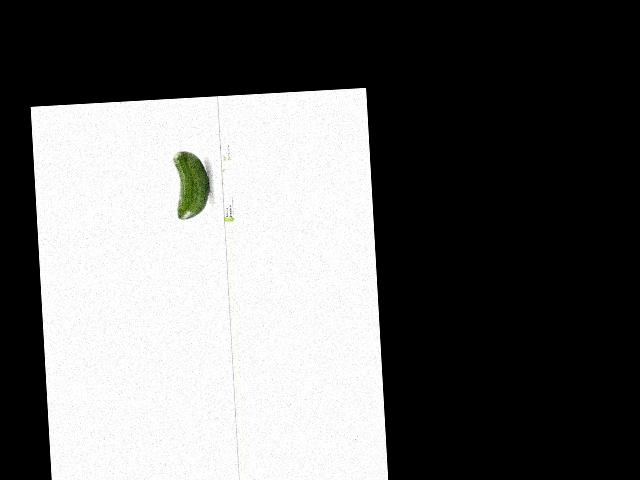cucumber: (173, 149, 211, 219)
